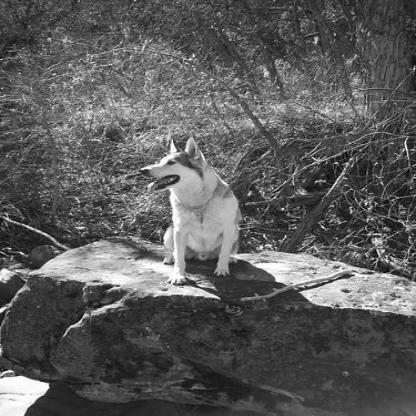Eskimo_dog: (138, 134, 240, 284)
